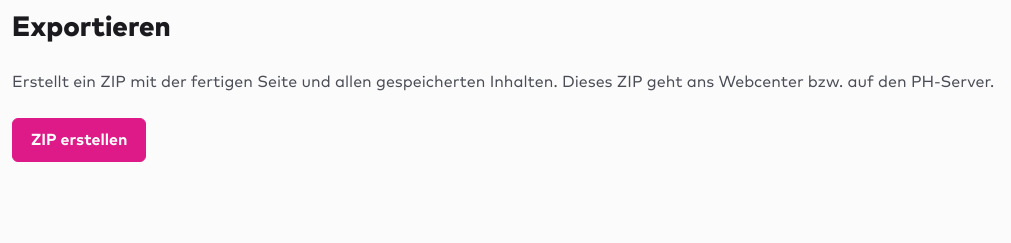
ExportPanel › Fehler beim Erstellen als alert
Step 1. Click the button "ZIP erstellen" → (79, 140), box [12,118,146,162]
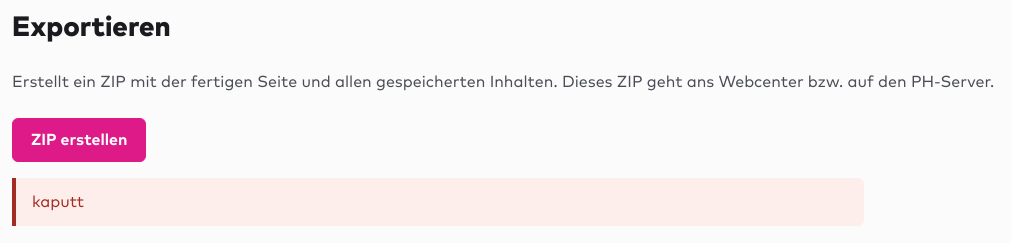
Expected: the message "kaputt" is shown, [12,178,864,226]
